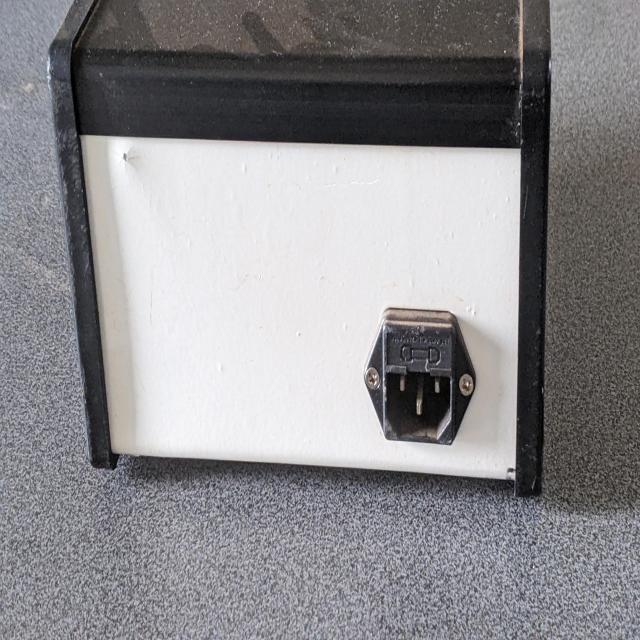AC-AD Regulated Power Supply: (44, 24, 560, 489)
